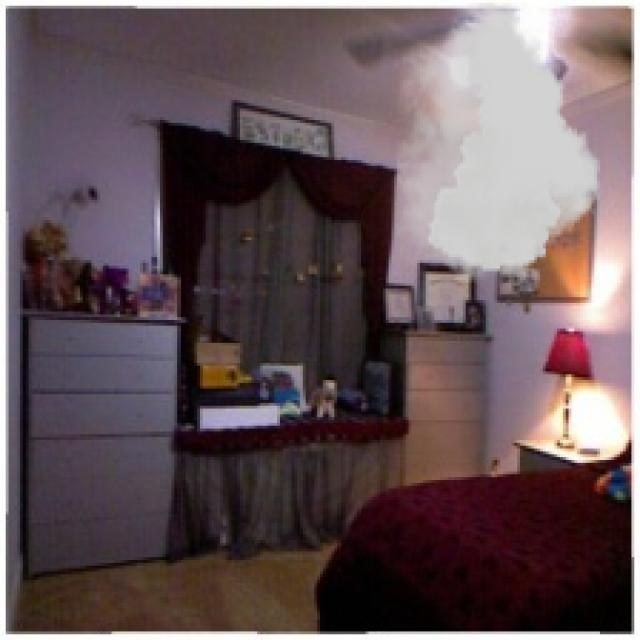smoke: (397, 3, 600, 283)
